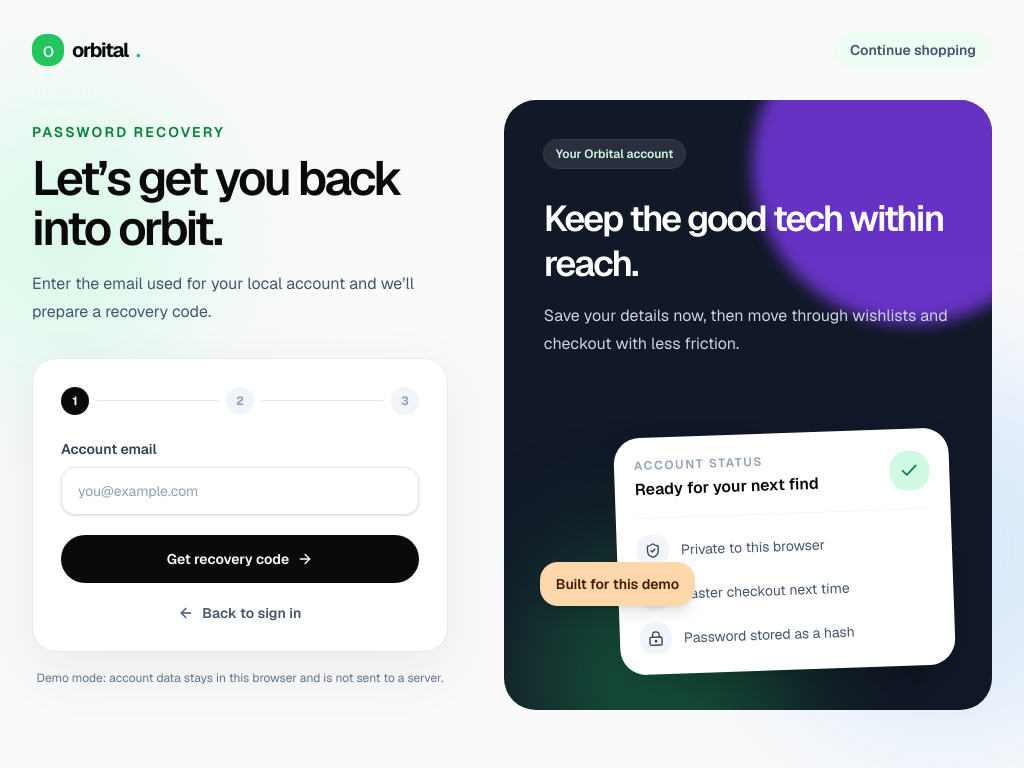
Test: authentication pages › starts password recovery only for a registered account
Type "missing@example.com" into the field labelled "Account email" at [240, 491], box [61,467,419,515]
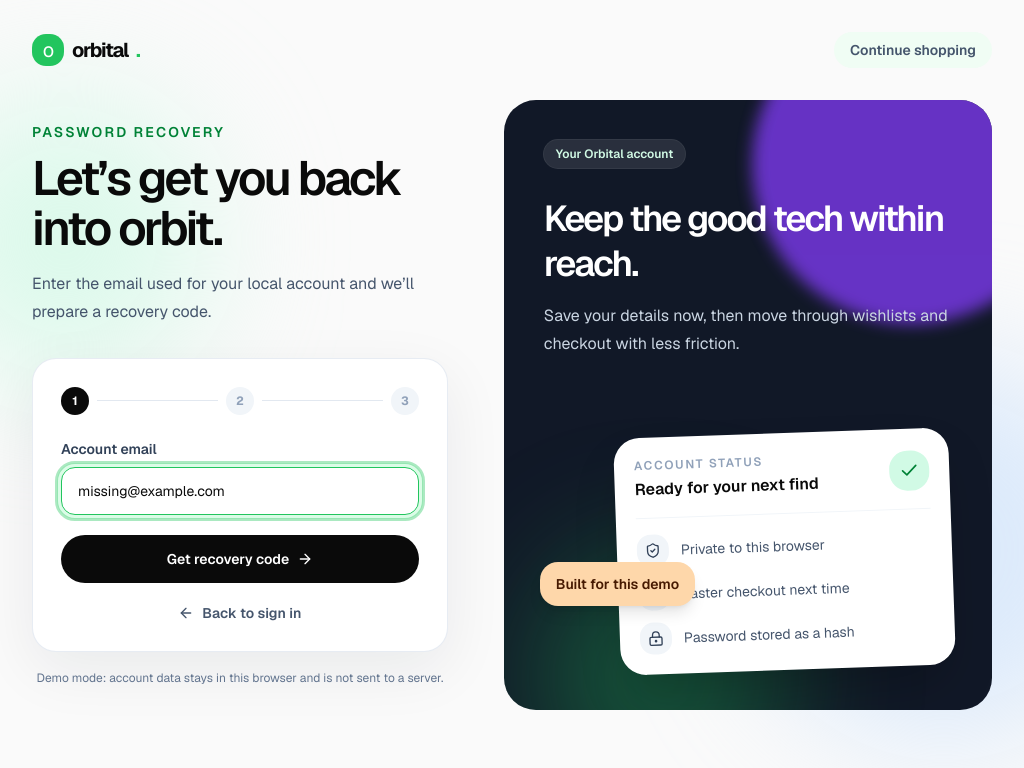
Click the button "Get recovery code" at [240, 559], box [61,535,419,583]
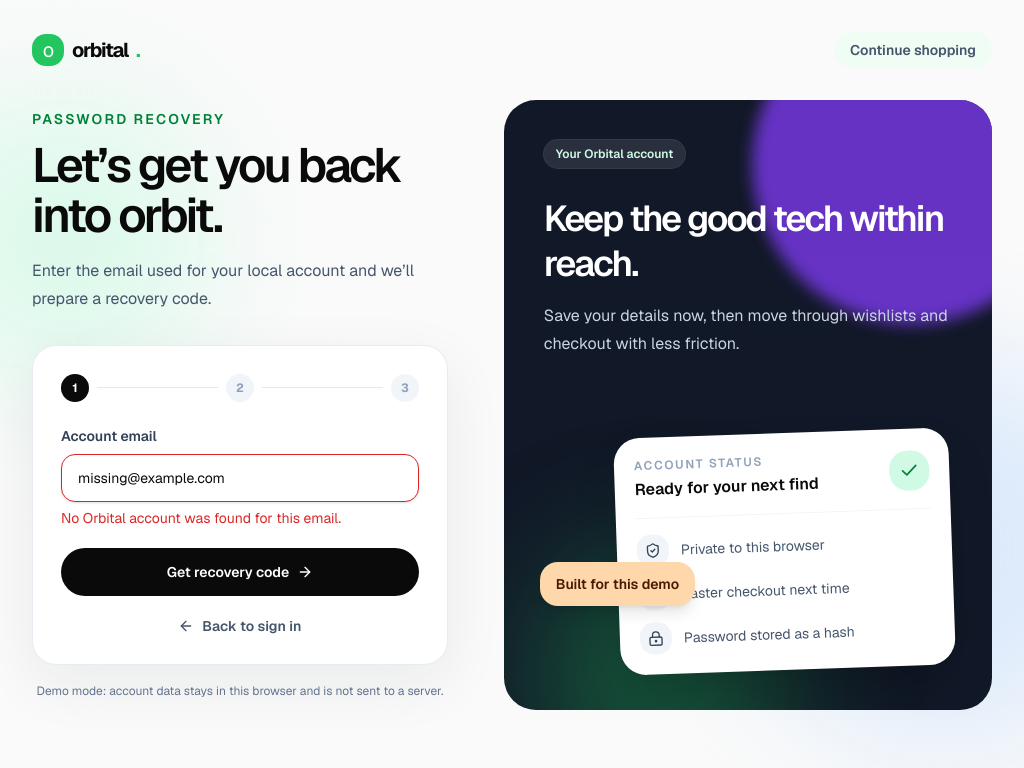
Expected: the text "No Orbital account was found for this email." is shown, [61,509,341,527]
